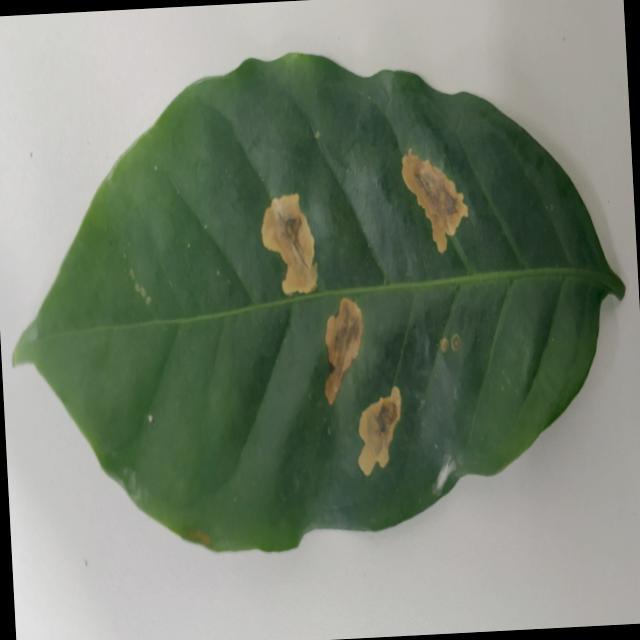KaratDaunKopi: (402, 148, 468, 253), (262, 194, 317, 295), (326, 298, 363, 405), (451, 334, 461, 351), (440, 338, 448, 353)
